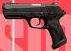gun: (1, 1, 71, 51)
